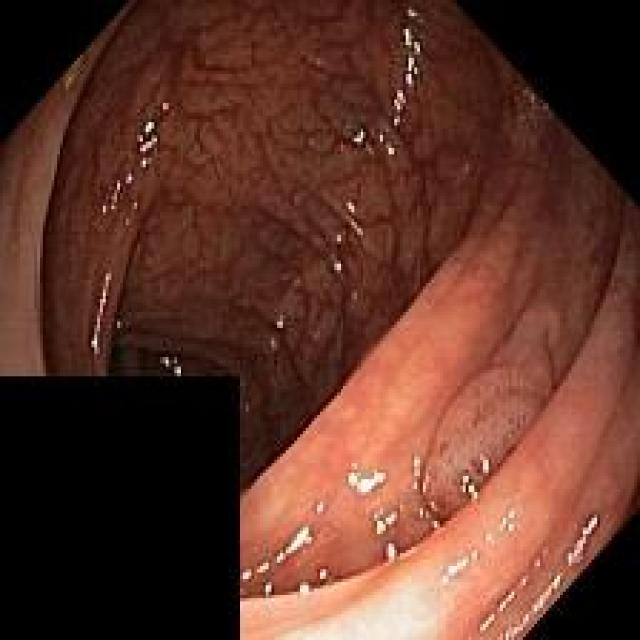Polyps: (426, 322, 555, 523)
